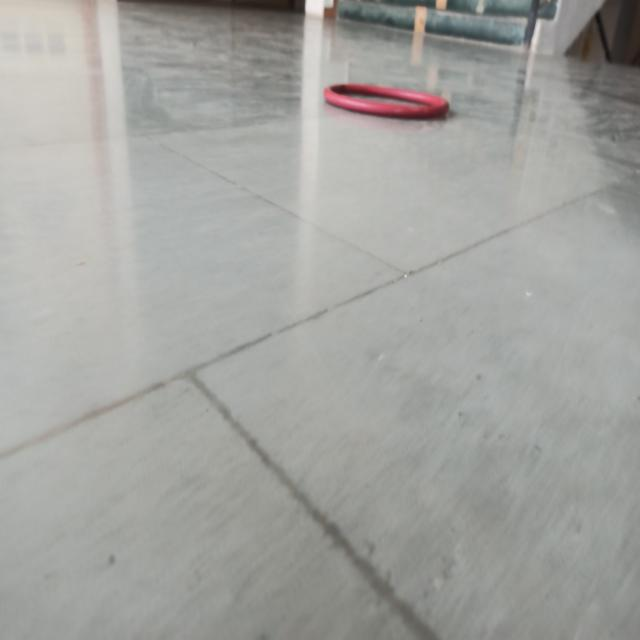daire: (327, 82, 450, 125)
